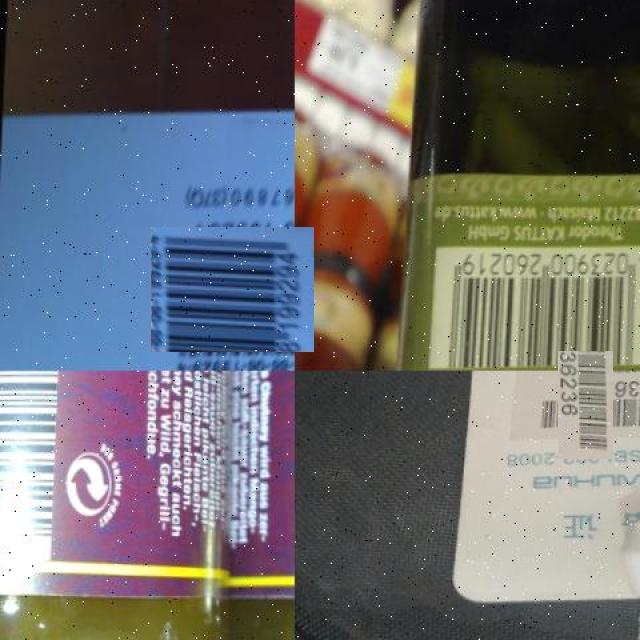Barcode: (435, 241, 640, 366), (160, 217, 304, 362), (0, 371, 71, 564), (545, 364, 627, 446)
